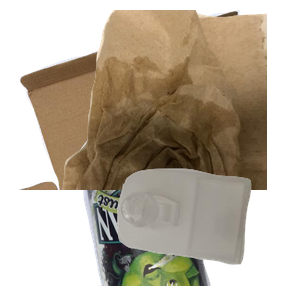cardboard: (16, 10, 256, 190)
glass: (78, 120, 281, 300)
plastic: (115, 166, 300, 300)
trash: (60, 10, 300, 190)
